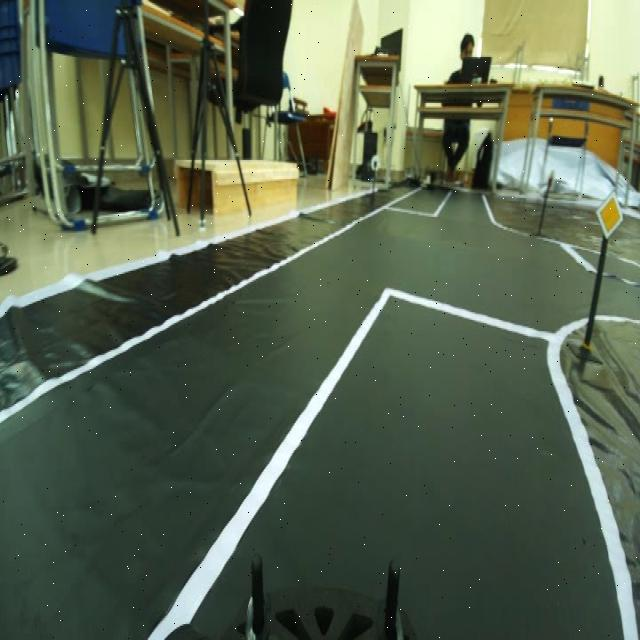priority: (594, 184, 626, 242)
